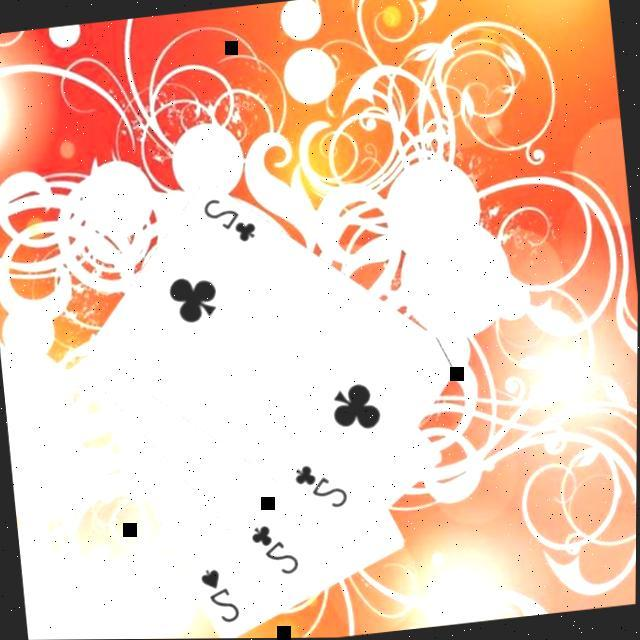2C: (197, 191, 260, 251), (288, 457, 351, 516), (244, 520, 302, 583)
2S: (194, 563, 242, 631)
